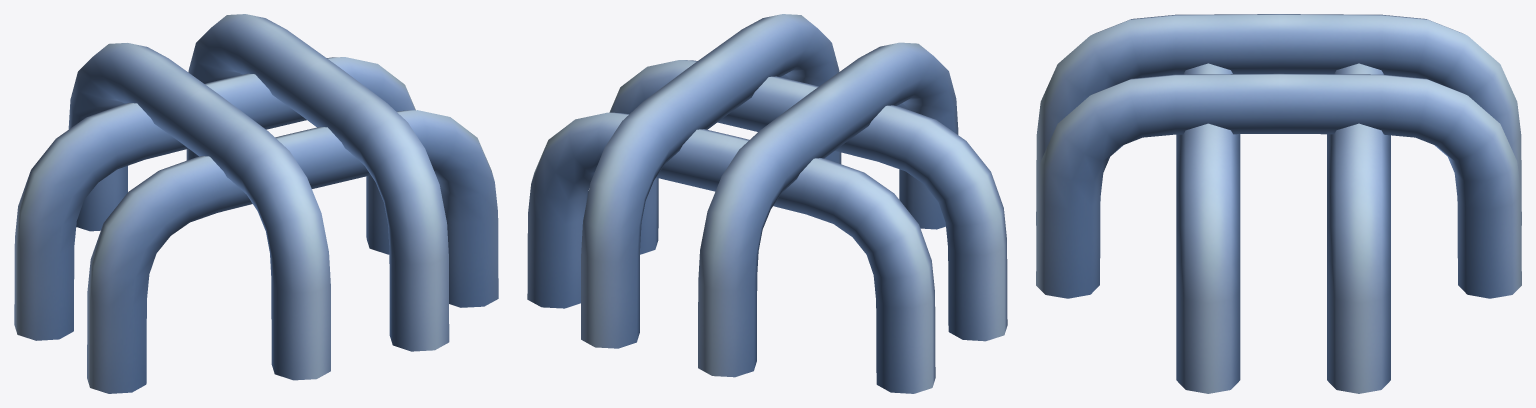
The model's file is Lock_1.fbx.
The picture shows the model from 3 angles, left to right: view 1: azimuth 30°, elevation 25°; view 2: azimuth 150°, elevation 25°; view 3: azimuth 270°, elevation 25°; orthographic projection. The views are drawn at different scales.
Parts seen in each view (by area): view 1: lock_1; view 2: lock_1; view 3: lock_1.
Boxes of the visible parts, x1=… form: lock_1: x1=14, y1=14, x2=498, y2=393; lock_1: x1=527, y1=14, x2=1007, y2=393; lock_1: x1=1036, y1=14, x2=1521, y2=393.
Bounding box in the file's own units: 1.29 × 0.7229 × 1.29.
